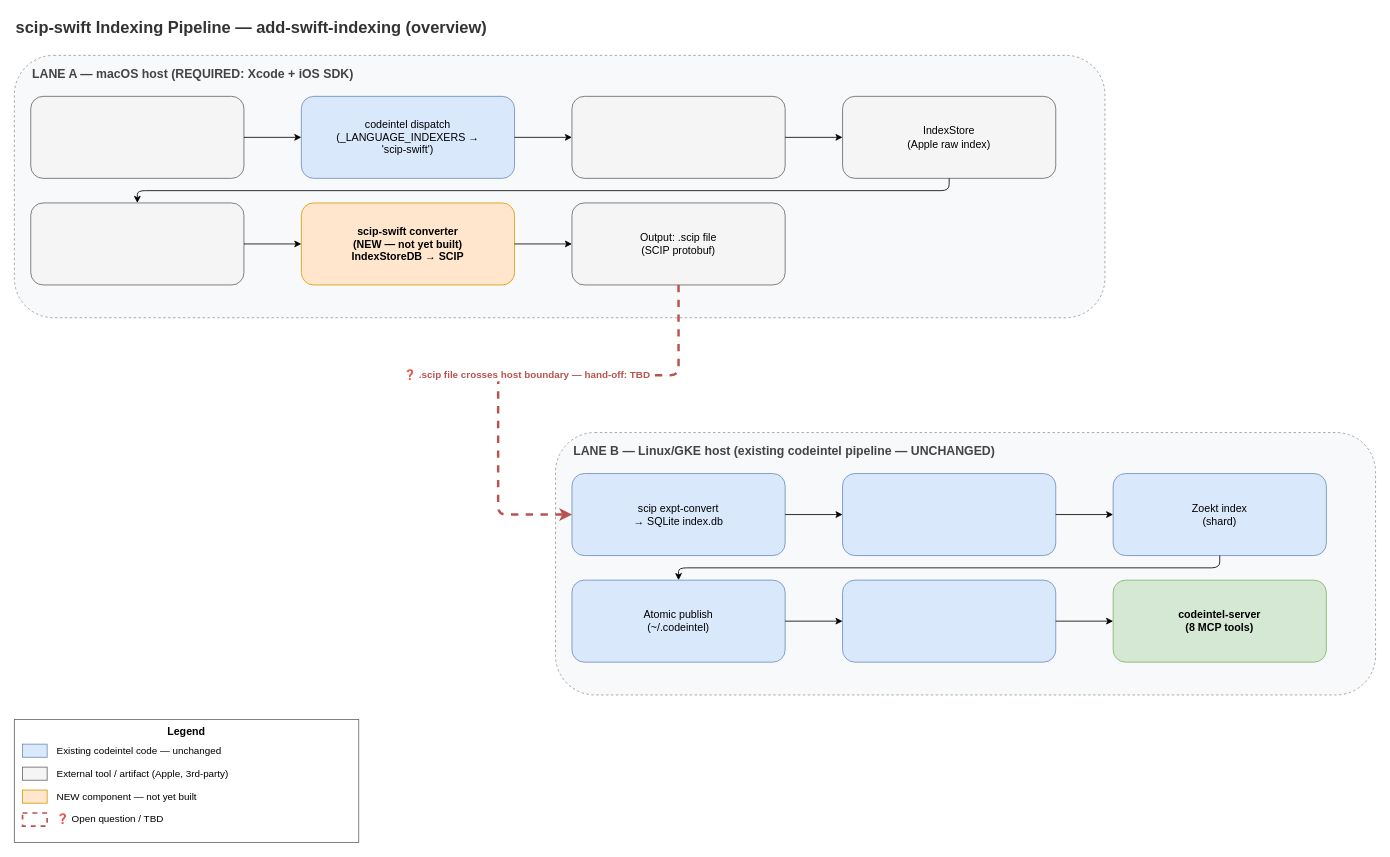
Image size: 1390x857. Some labels were removed from this diagram. The centre of each missing label's shape, as x and y in pixels:
Build & produce IndexStore (swift build / xcodebuild): the point at 678,137
Package graph (registry.db): the point at 949,514
Read via swiftlang/indexstore-db: the point at 137,243
Registry update: the point at 949,620
Source repo (Swift, Xcode project — app + watch + widget): the point at 137,137
